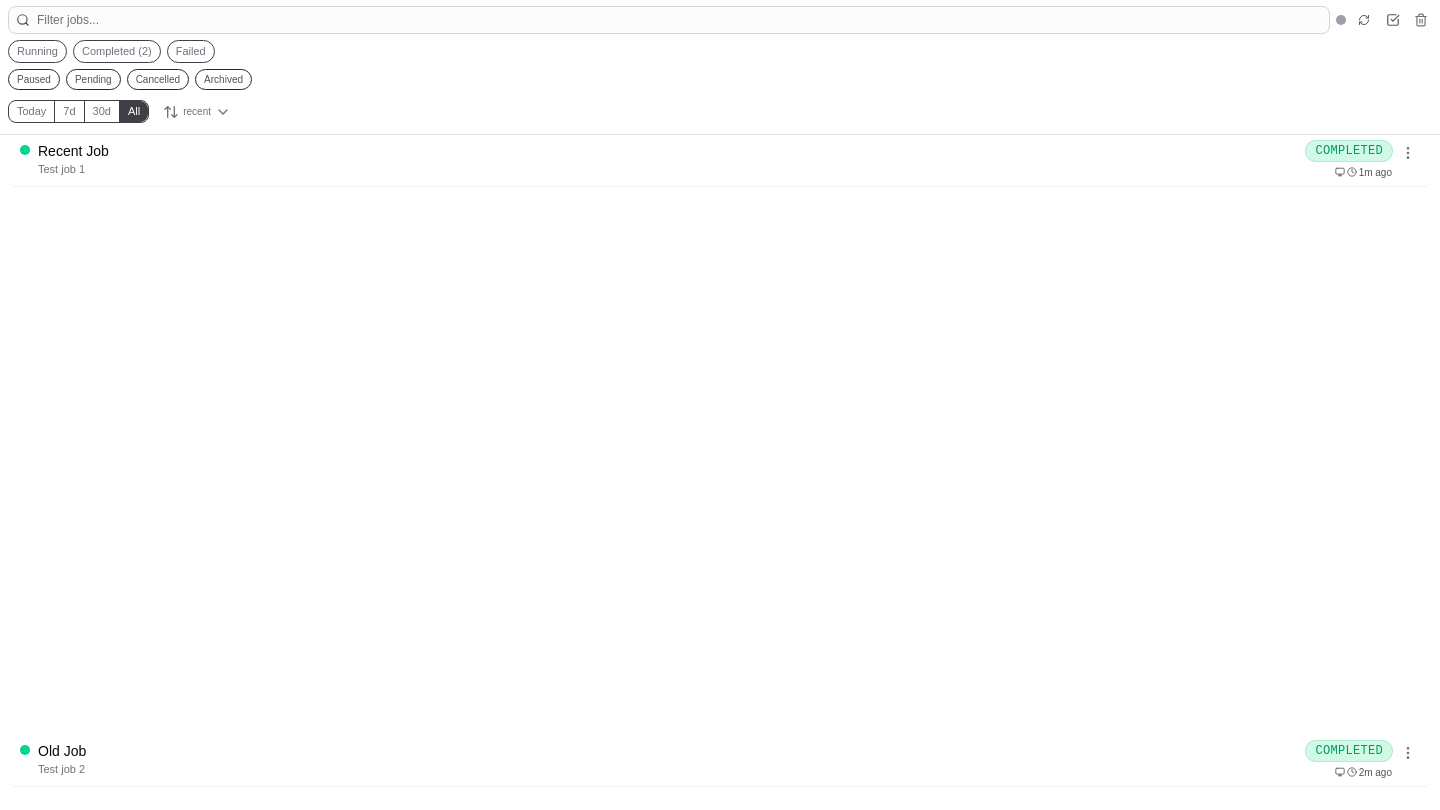
Test: JobList › filters by selected date range
Click the button "30d" at (101, 112), box [84, 101, 119, 122]
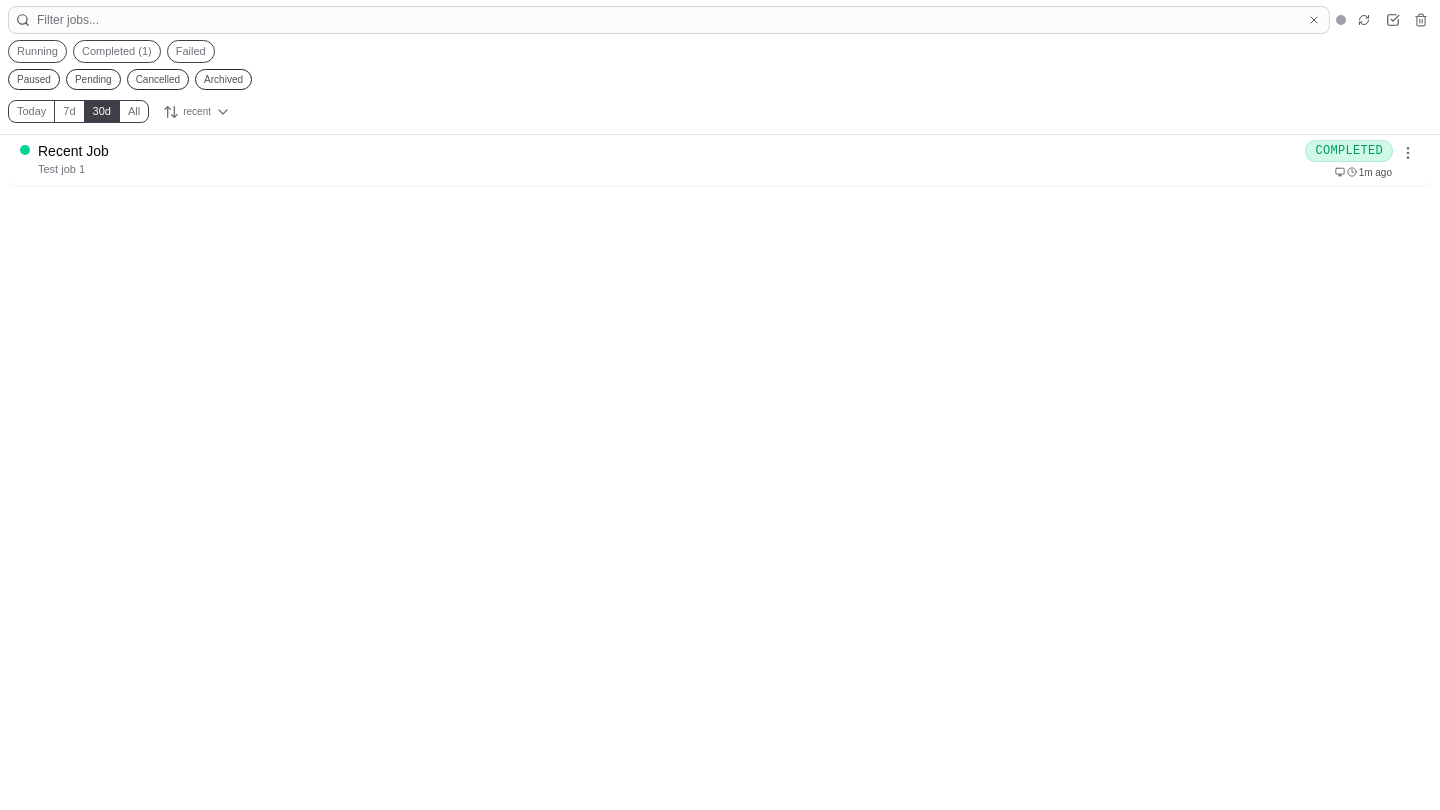
Expected: the text "Recent Job" is shown, [38, 140, 109, 160]
Expected: the option "Old Job" is gone
